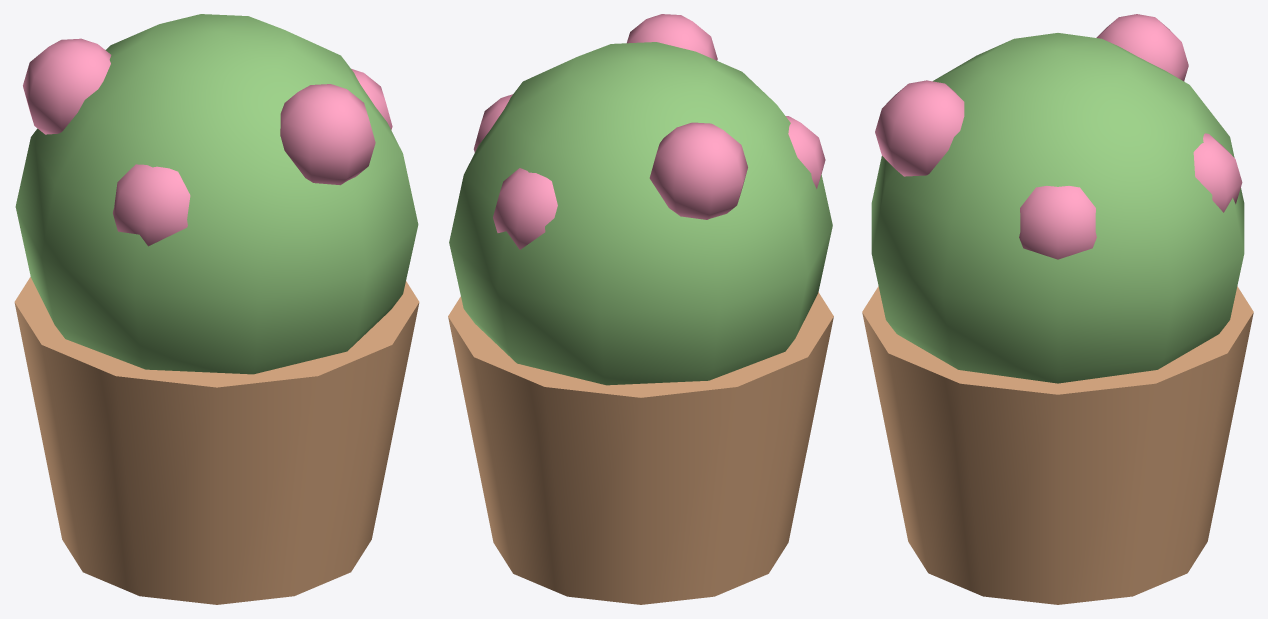
Rendered from pot0.glb.
3 renders of one model, left to right at view 1: azimuth 30°, elevation 25°; view 2: azimuth 150°, elevation 25°; view 3: azimuth 270°, elevation 25°, orthographic. The views are drawn at different scales.
Visible parts, largest first — view 1: pot0; view 2: pot0; view 3: pot0.
Part boxes in pixels (x1,y1,x2,y2): pot0: (14,14,419,604); pot0: (448,14,833,604); pot0: (862,14,1253,604).
Bounding box in the file's own units: 0.34 × 0.47 × 0.34.
